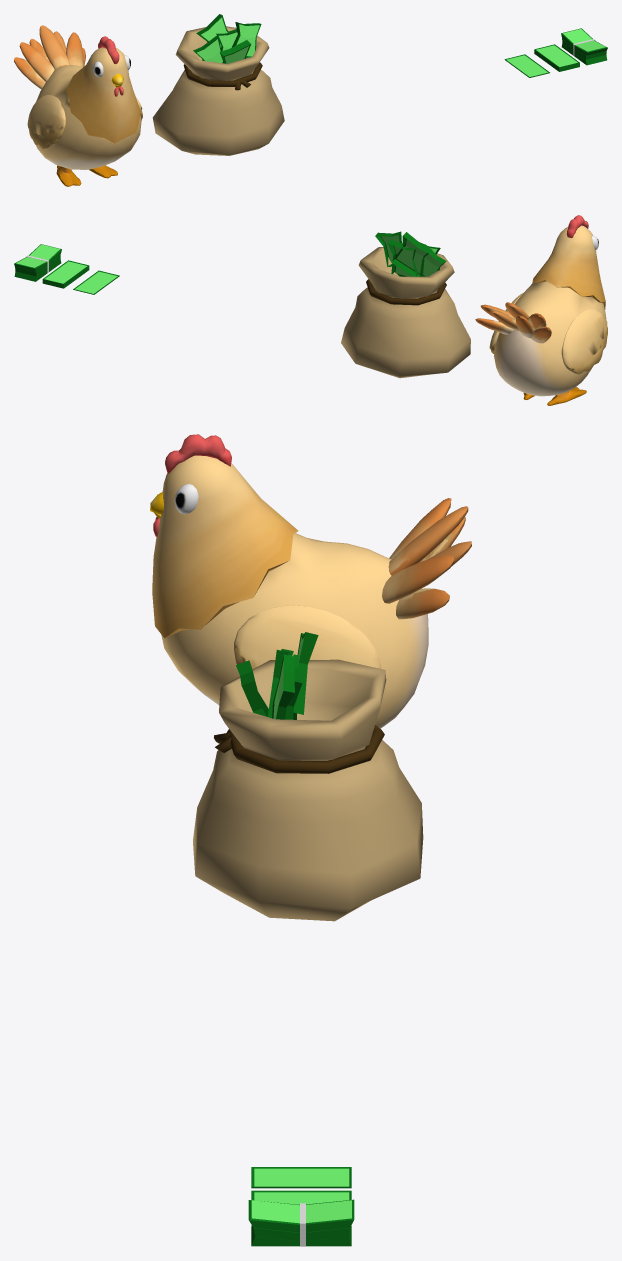
Rendered from corrigos semana 4 - luana.fbx.
3 views of the same model, one above another, from view 1: azimuth 30°, elevation 25°; view 2: azimuth 150°, elevation 25°; view 3: azimuth 270°, elevation 25° (orthographic). The views are drawn at different scales.
Visible parts, largest first — view 1: galinha, saco de dinheiro.002, pilha de notas, notas, nota; view 2: galinha, saco de dinheiro.002, pilha de notas, notas, nota; view 3: galinha, saco de dinheiro.002, pilha de notas, nota, notas.
Boxes of the visible parts, x1,y1,x2,y2 form: galinha: [14, 25, 142, 186]; saco de dinheiro.002: [152, 14, 284, 155]; pilha de notas: [561, 28, 607, 65]; notas: [534, 44, 579, 71]; nota: [504, 54, 549, 77]; galinha: [475, 215, 607, 405]; saco de dinheiro.002: [341, 231, 470, 378]; pilha de notas: [14, 244, 61, 281]; notas: [42, 260, 89, 288]; nota: [73, 270, 119, 294]; galinha: [150, 434, 471, 728]; saco de dinheiro.002: [193, 632, 423, 921]; pilha de notas: [248, 1199, 354, 1246]; nota: [251, 1167, 351, 1188]; notas: [251, 1190, 351, 1204].
Size of the model in its own units: 211 by 56.47 by 52.82.
